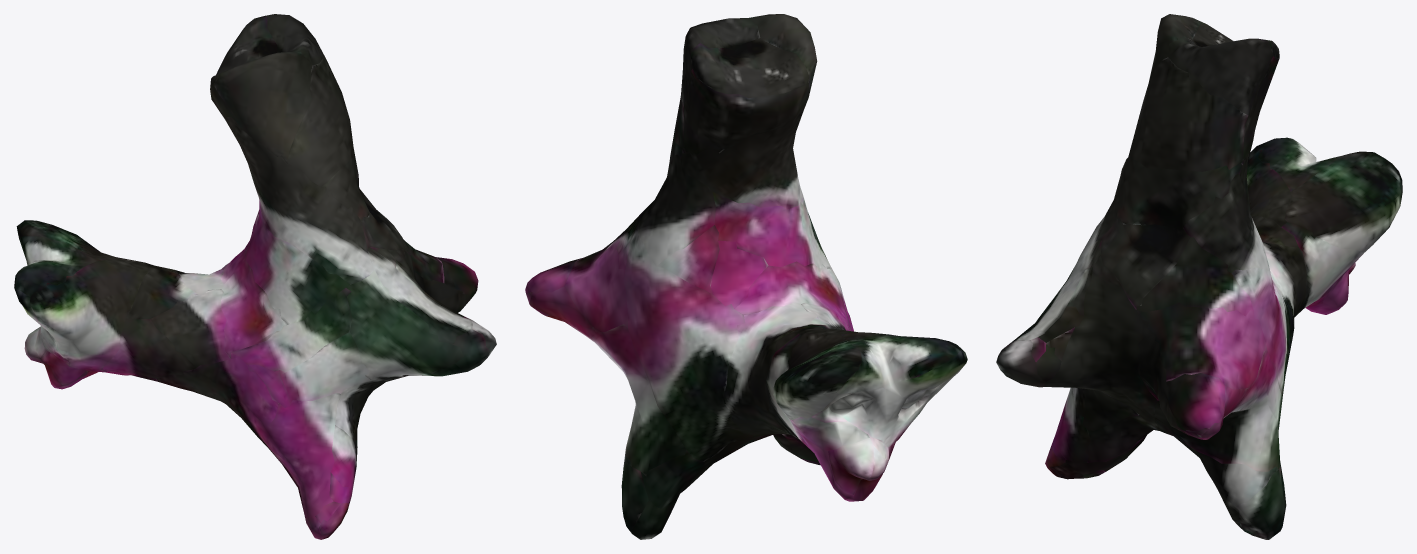
File: hall.glb
The picture shows the model from 3 angles, left to right: view 1: azimuth 30°, elevation 25°; view 2: azimuth 150°, elevation 25°; view 3: azimuth 270°, elevation 25°; orthographic projection. The views are drawn at different scales.
Bounding box in the file's own units: 0.5257 × 0.5478 × 0.4195.
Materials: 1 (1 with a texture image).
